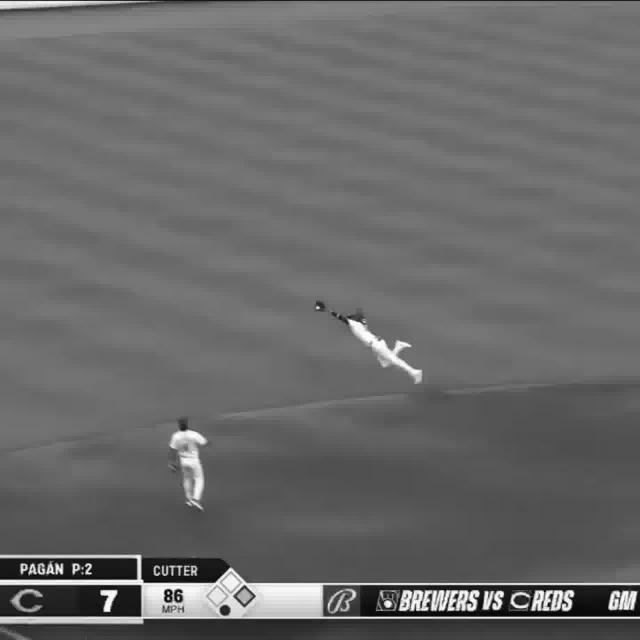baseball: (316, 306, 320, 310)
baseball_glove: (312, 299, 328, 314), (164, 459, 180, 473)
shoe: (188, 498, 204, 514), (396, 340, 416, 351), (414, 367, 422, 387)
